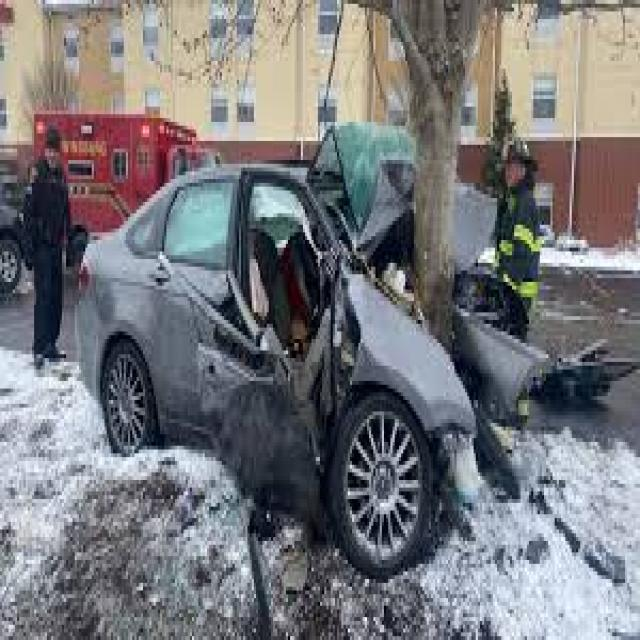accident: (91, 133, 523, 569)
